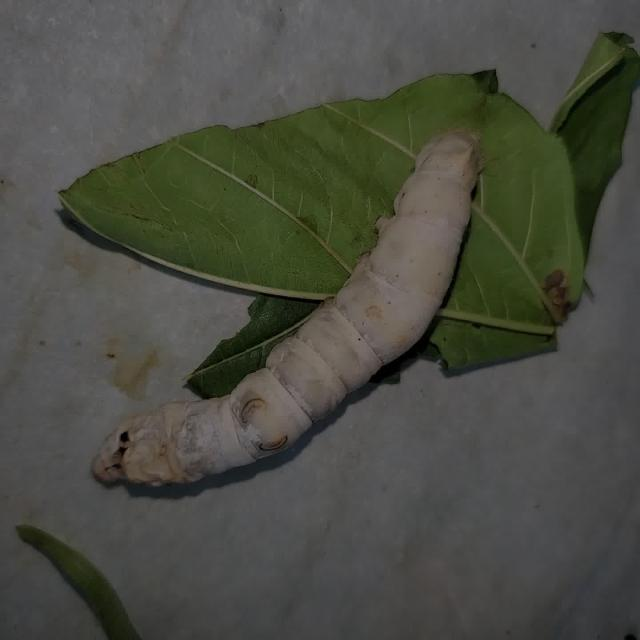Grasserie: (57, 100, 500, 518)
